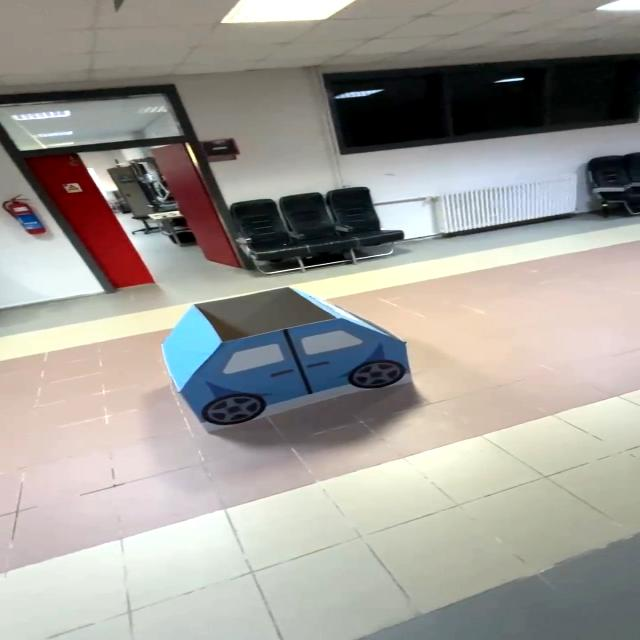blue_car: (151, 279, 427, 441)
